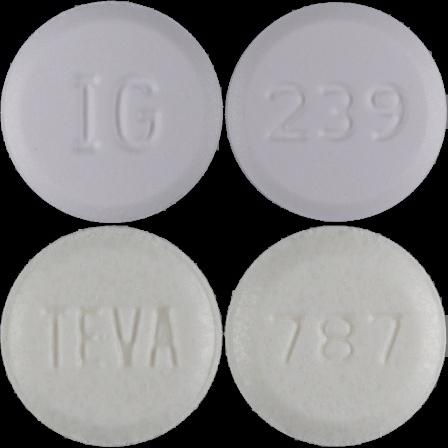12634-600: (0, 0, 224, 224)
